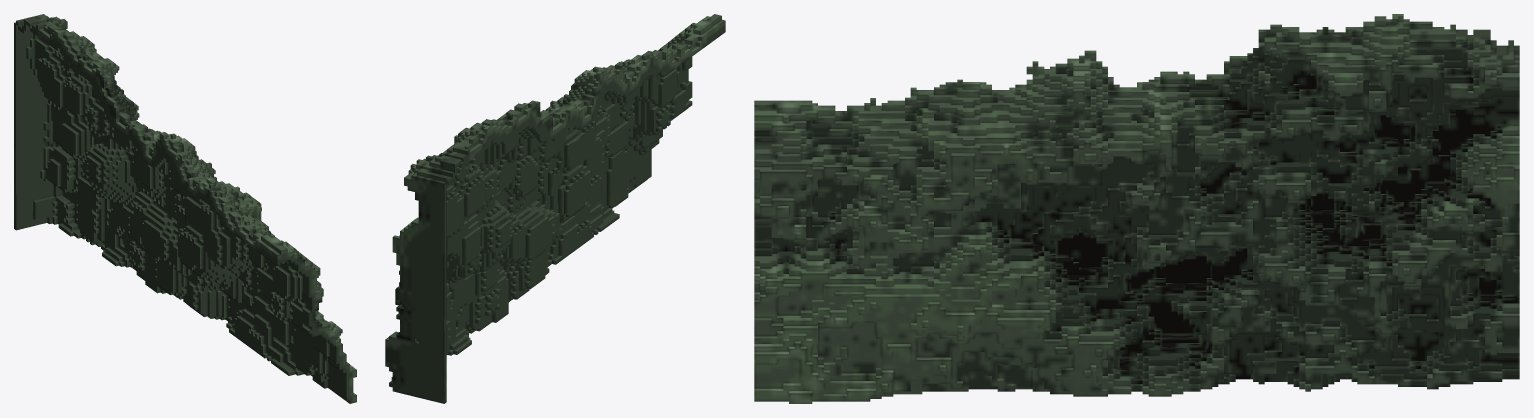
Rendered from treeline01-0-1r.fbx.
3 views of the same model, side by side, from view 1: azimuth 30°, elevation 25°; view 2: azimuth 150°, elevation 25°; view 3: azimuth 270°, elevation 25° (orthographic). The views are drawn at different scales.
Visible parts, largest first — view 1: treeline01-0-1r; view 2: treeline01-0-1r; view 3: treeline01-0-1r.
Part boxes in pixels (<box>): treeline01-0-1r: <box>14,14,356,403</box>; treeline01-0-1r: <box>385,14,725,403</box>; treeline01-0-1r: <box>754,14,1519,403</box>.
Bounding box in the file's own units: 24 × 63 × 132.
